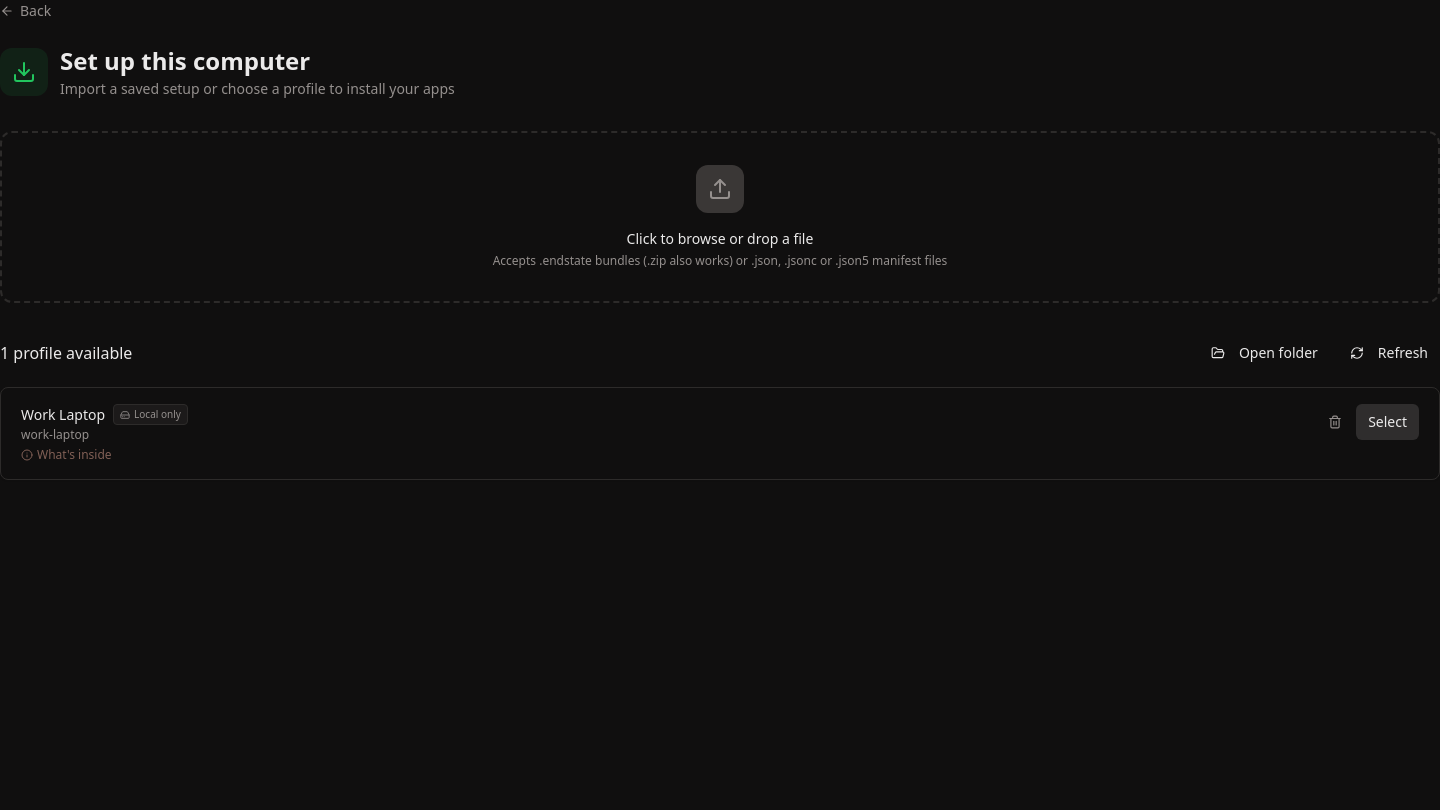
Test case: SetupFlow — "What's inside" › inspects the exact manifest without selecting, previewing, detecting, or applying
Click the button with aria-label "What's inside Work Laptop".
click(66, 455)  # box 21,447 -> 112,463
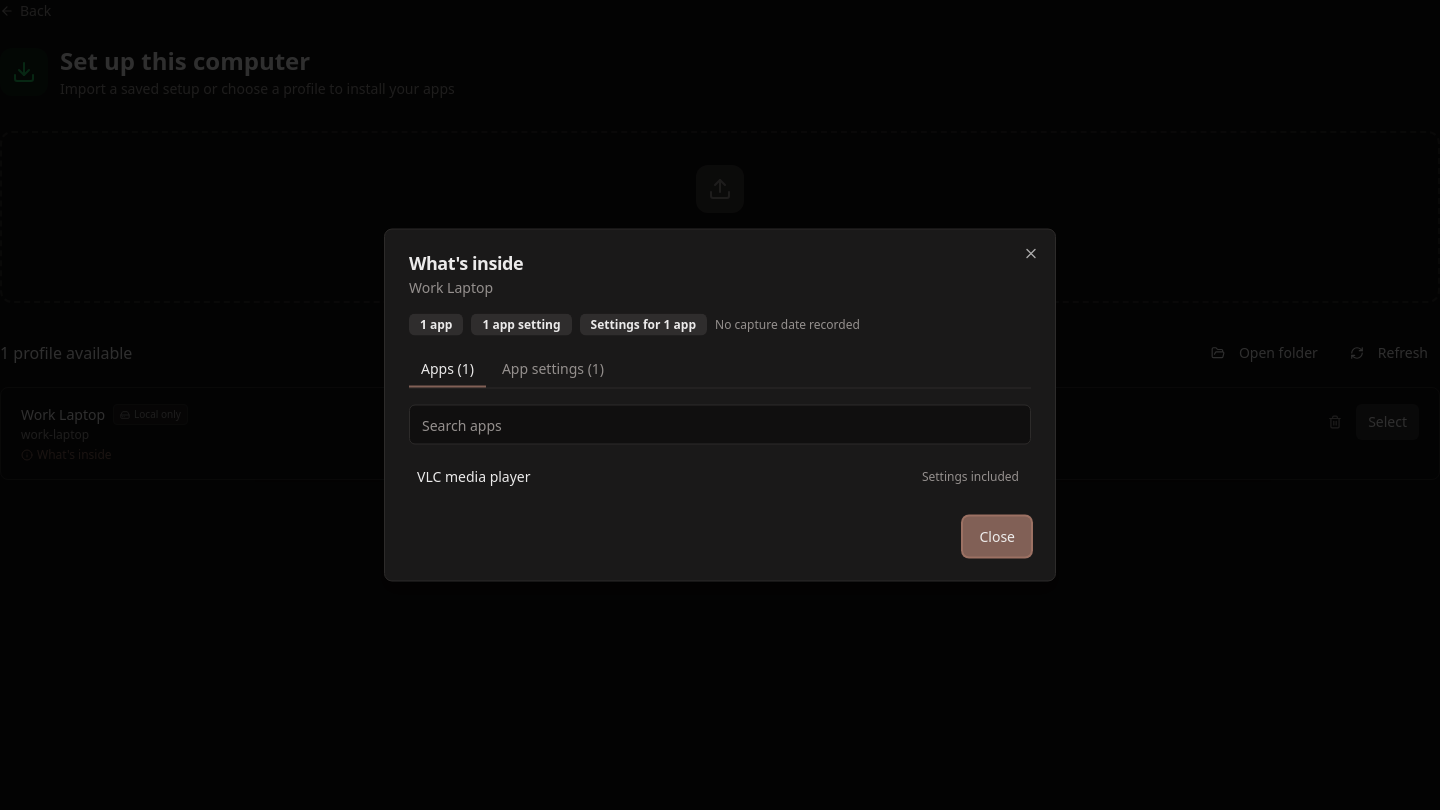
Expected: the text "VLC media player" is shown, 417,466 -> 530,486
